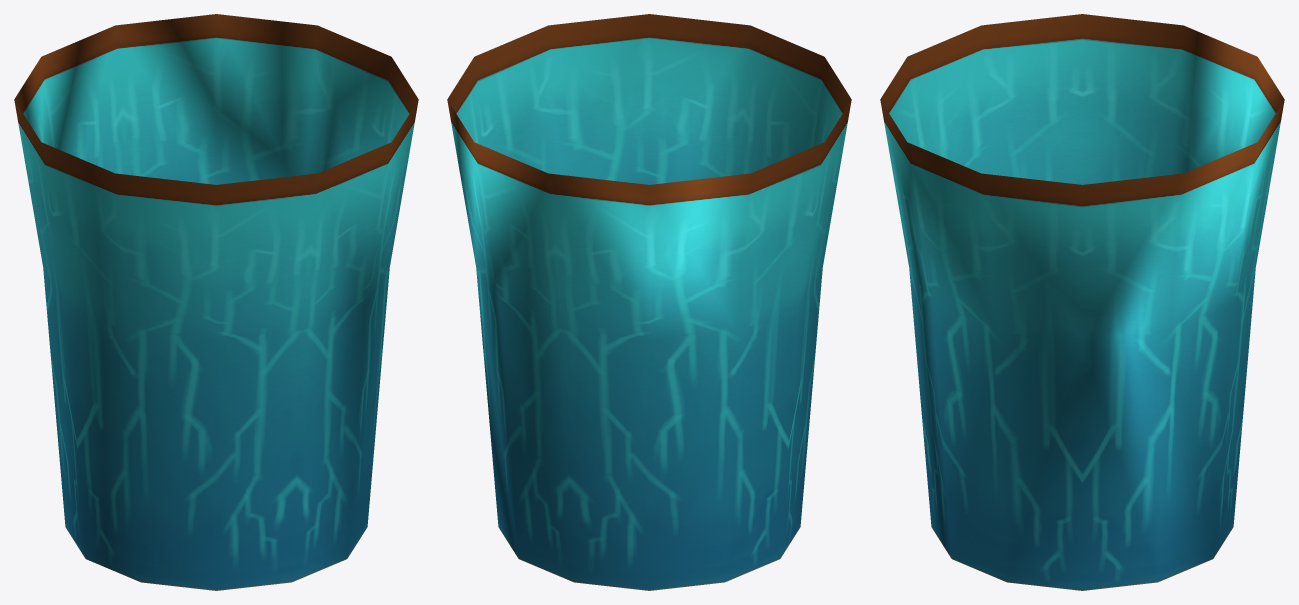
The model's file is tank-middle.fbx.
3 renders of one model, left to right at view 1: azimuth 30°, elevation 25°; view 2: azimuth 150°, elevation 25°; view 3: azimuth 270°, elevation 25°, orthographic.
Parts seen in each view (by area): view 1: polySurface1; view 2: polySurface1; view 3: polySurface1.
Boxes of the visible parts, x1,y1,x2,y2 form: polySurface1: [14, 14, 418, 590]; polySurface1: [447, 14, 851, 590]; polySurface1: [880, 14, 1284, 590].
Size of the model in its own units: 6.48 by 7.56 by 6.48.
